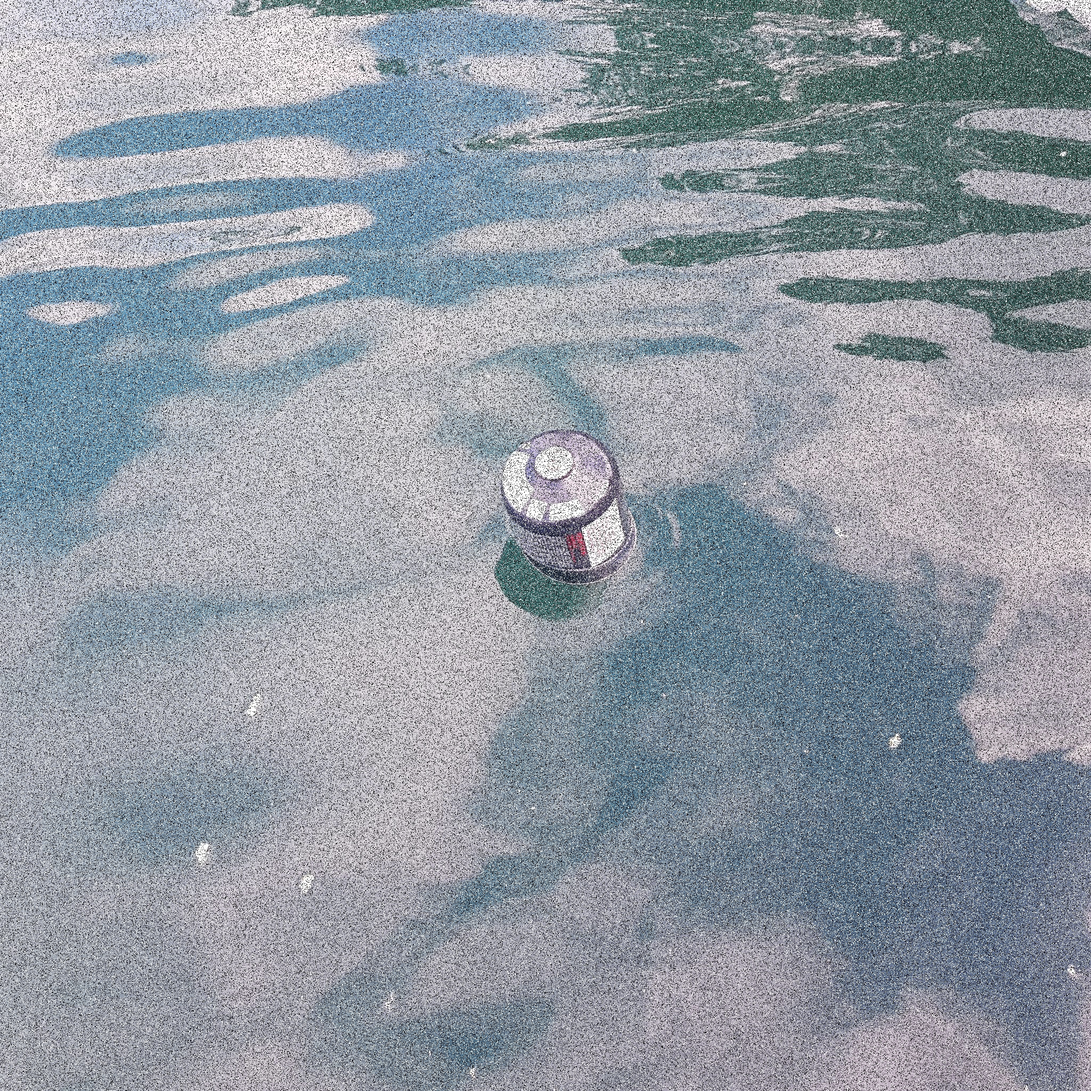sampah_terapung: (500, 429, 638, 585)
